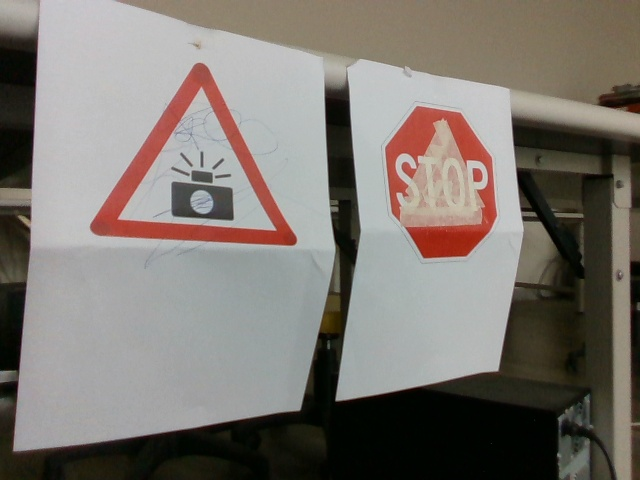camera: (94, 64, 300, 248)
stop: (392, 103, 502, 265)
